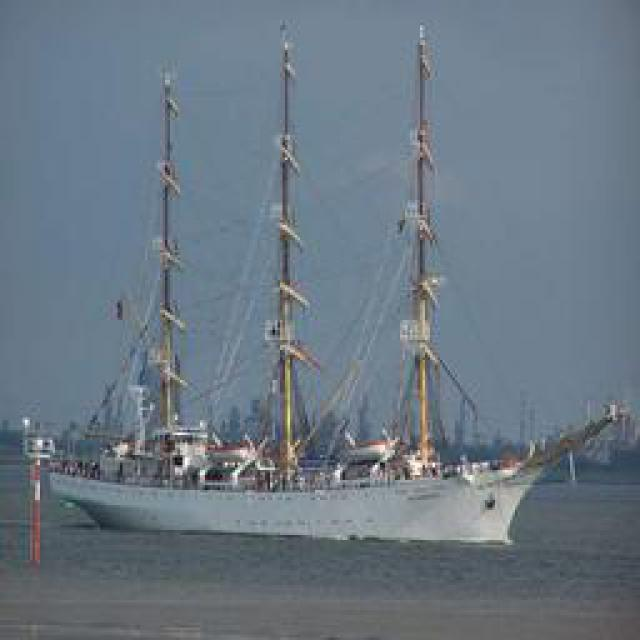Ship: (35, 9, 613, 539)
